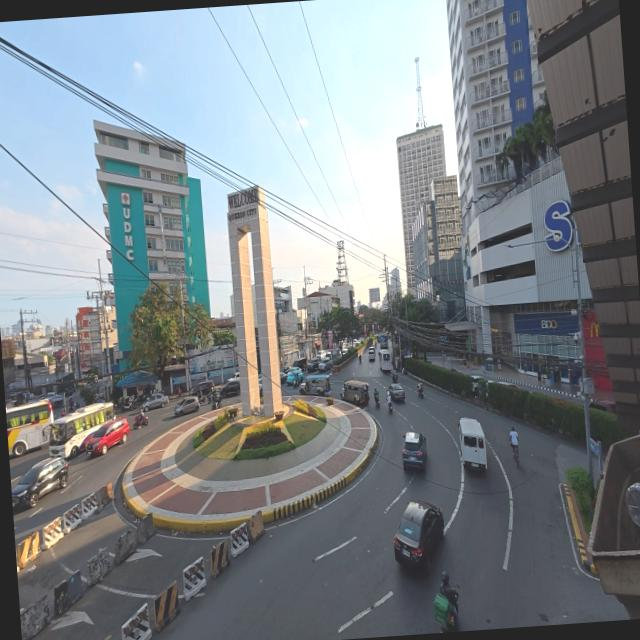Jeepneys: (341, 380, 369, 406), (300, 374, 330, 396)
bus: (50, 403, 115, 458), (6, 400, 53, 456), (379, 350, 392, 372), (377, 333, 388, 349)
car: (394, 501, 444, 571), (12, 458, 68, 507), (86, 418, 130, 455), (403, 432, 426, 471), (174, 397, 199, 416), (190, 380, 214, 399), (142, 394, 168, 411), (219, 380, 241, 398), (590, 399, 616, 413), (487, 380, 518, 390), (388, 384, 405, 401), (287, 368, 304, 385), (472, 375, 485, 396), (319, 359, 333, 372), (307, 357, 319, 371), (228, 372, 239, 381), (368, 347, 375, 361), (317, 350, 327, 359), (280, 371, 286, 384), (280, 366, 290, 373), (342, 348, 349, 354)
motorcycle: (435, 591, 458, 632), (133, 414, 148, 429), (212, 397, 222, 409), (417, 386, 423, 398), (392, 372, 398, 383), (388, 400, 393, 413), (199, 396, 207, 404), (375, 396, 380, 407), (359, 355, 362, 363)
vans: (459, 419, 487, 468), (292, 358, 307, 371)
